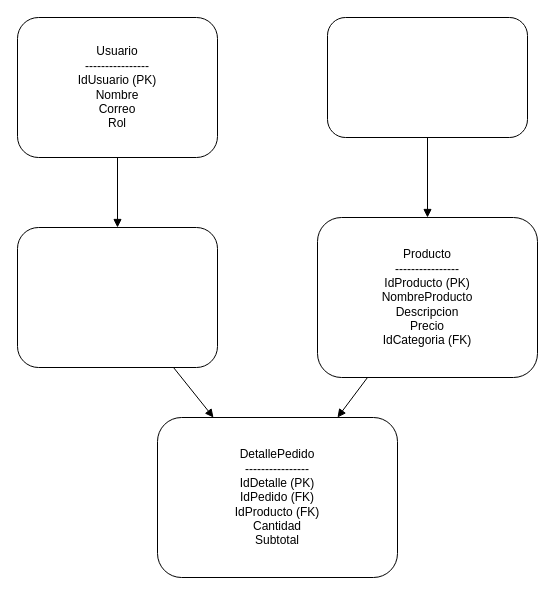
This 555x595 diagram has some shape labels left out. Here are the shapes that lost their labels. From the top down, the box of each, then its label:
(326, 16, 528, 138): Categoria ---------------- IdCategoria (PK) NombreCategoria
(16, 226, 218, 368): Pedido ---------------- IdPedido (PK) Fecha Total IdUsuario (FK)
